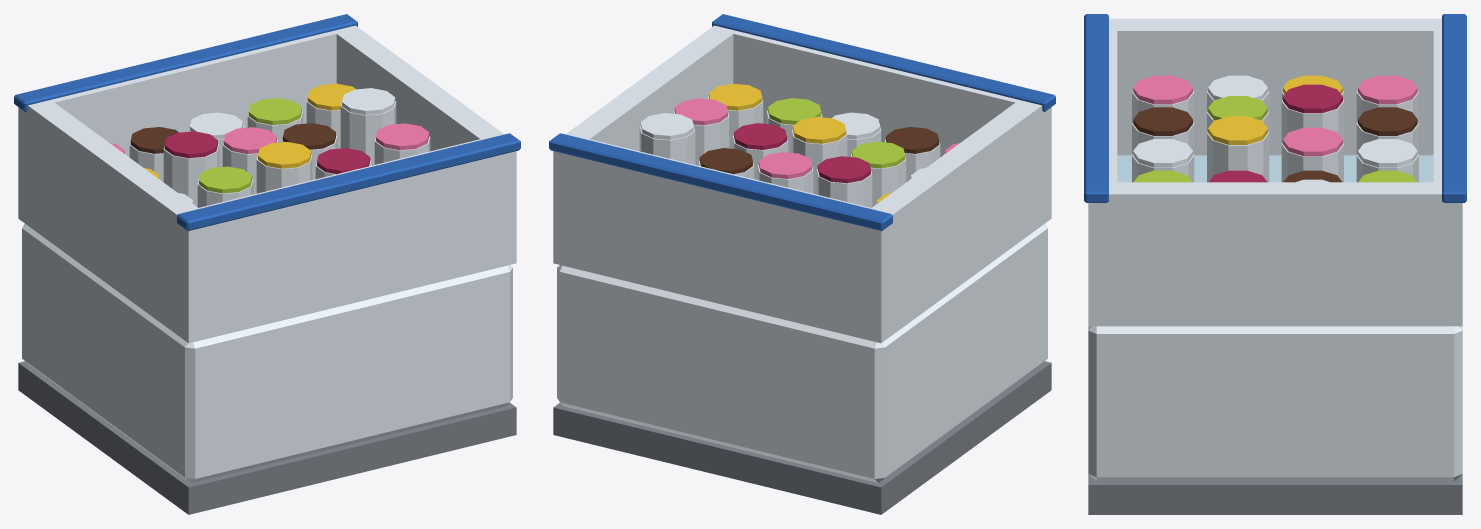
File: freezer_icecream.glb
3 renders of one model, left to right at view 1: azimuth 30°, elevation 25°; view 2: azimuth 150°, elevation 25°; view 3: azimuth 270°, elevation 25°, orthographic. The views are drawn at different scales.
Visible parts, largest first — view 1: freezer_icecream; view 2: freezer_icecream; view 3: freezer_icecream.
Boxes of the visible parts, <box> form: freezer_icecream: <box>14,14,520,514</box>; freezer_icecream: <box>549,14,1055,514</box>; freezer_icecream: <box>1084,14,1466,514</box>.
Bounding box in the file's own units: 1.02 × 0.86 × 0.92.
Materials: 1 (1 with a texture image).
